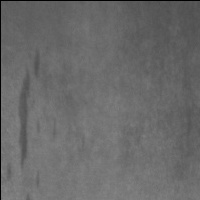inclusion: (12, 46, 51, 175)
